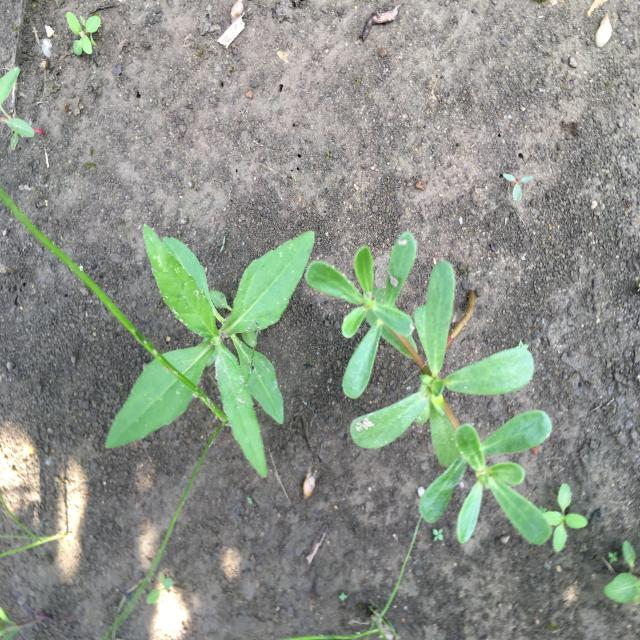Eclipta: (102, 221, 318, 482)
Purslane: (304, 229, 555, 550)
